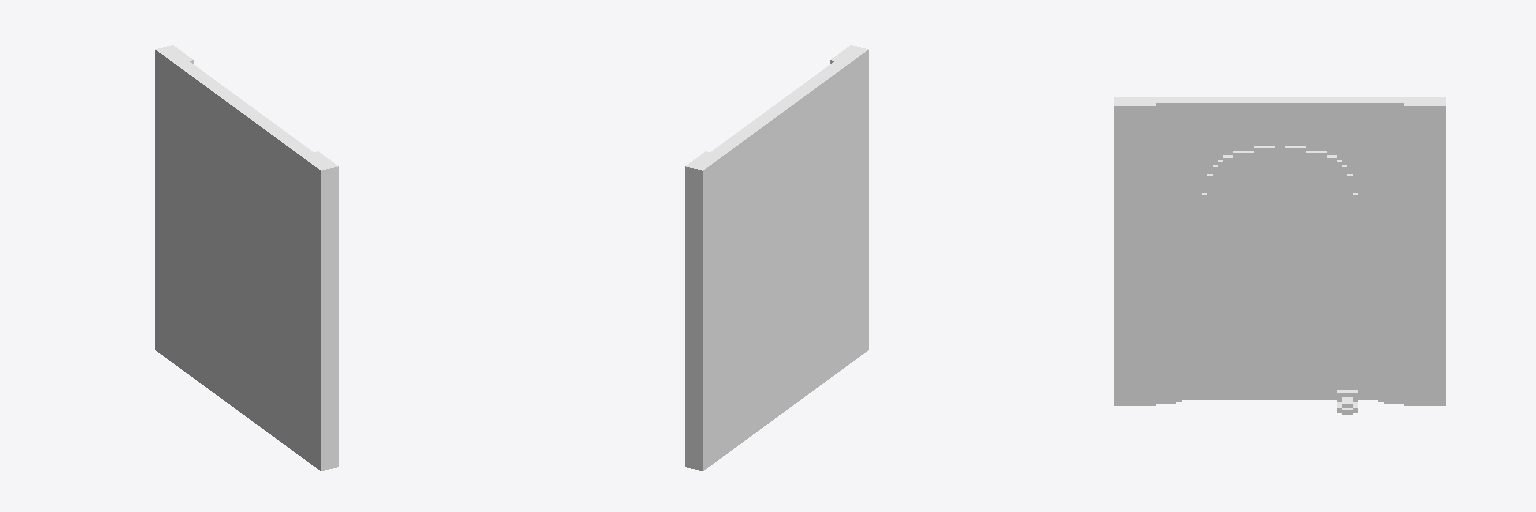
The model's file is old_brick_peach_door_m.obj.
3 views of the same model, side by side, from view 1: azimuth 30°, elevation 25°; view 2: azimuth 150°, elevation 25°; view 3: azimuth 270°, elevation 25° (orthographic).
Size of the model in its own units: 8 by 64 by 64.